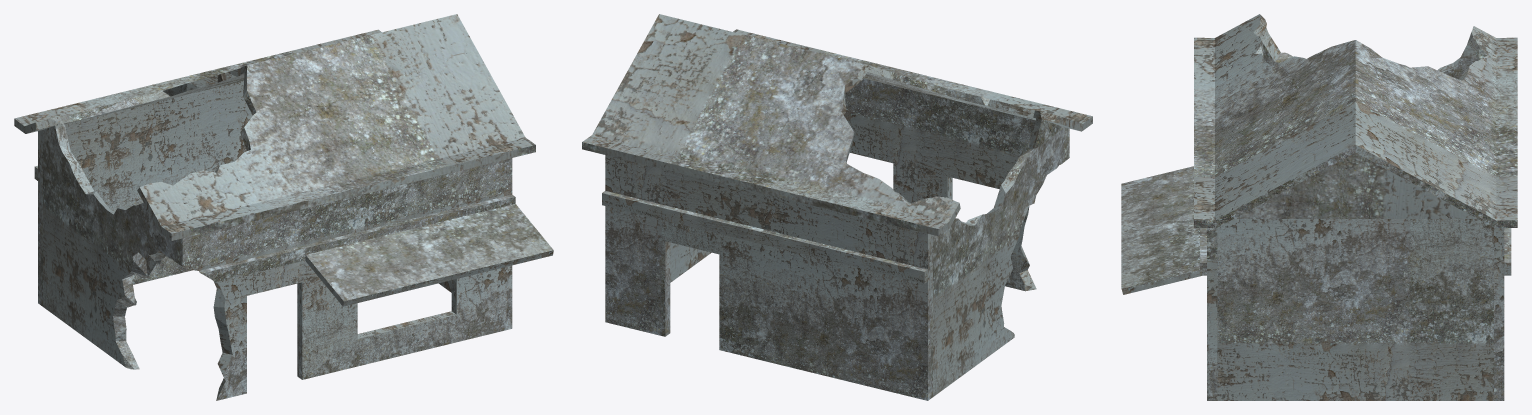
The model's file is nha xa 3.fbx.
3 views of the same model, side by side, from view 1: azimuth 30°, elevation 25°; view 2: azimuth 150°, elevation 25°; view 3: azimuth 270°, elevation 25° (orthographic). The views are drawn at different scales.
Visible parts, largest first — view 1: cube.009, cube, cube.001, cube.003, cube.006, cube.004; view 2: cube.003, cube.009, cube, cube.001, cube.005, cube.002; view 3: cube.002, cube.009, cube.006, cube, cube.003, cube.001, cube.005.
Boxes of the visible parts, x1=… form: cube.009: x1=14, y1=14, x2=535, y2=240; cube: x1=177, y1=158, x2=512, y2=400; cube.001: x1=43, y1=123, x2=177, y2=369; cube.003: x1=38, y1=81, x2=252, y2=306; cube.006: x1=305, y1=203, x2=553, y2=306; cube.004: x1=199, y1=194, x2=515, y2=282; cube.003: x1=605, y1=155, x2=932, y2=400; cube.009: x1=582, y1=14, x2=1092, y2=236; cube: x1=844, y1=78, x2=1069, y2=291; cube.001: x1=933, y1=118, x2=1064, y2=396; cube.005: x1=602, y1=191, x2=927, y2=283; cube.002: x1=670, y1=242, x2=711, y2=282; cube.002: x1=1217, y1=152, x2=1493, y2=400; cube.009: x1=1194, y1=14, x2=1517, y2=227; cube.006: x1=1121, y1=166, x2=1206, y2=294; cube: x1=1207, y1=228, x2=1217, y2=400; cube.003: x1=1494, y1=228, x2=1504, y2=400; cube.001: x1=1258, y1=27, x2=1479, y2=79; cube.005: x1=1504, y1=228, x2=1511, y2=275.
Bounding box in the file's own units: 781 × 528 × 715.
1 material, 1 textured.
